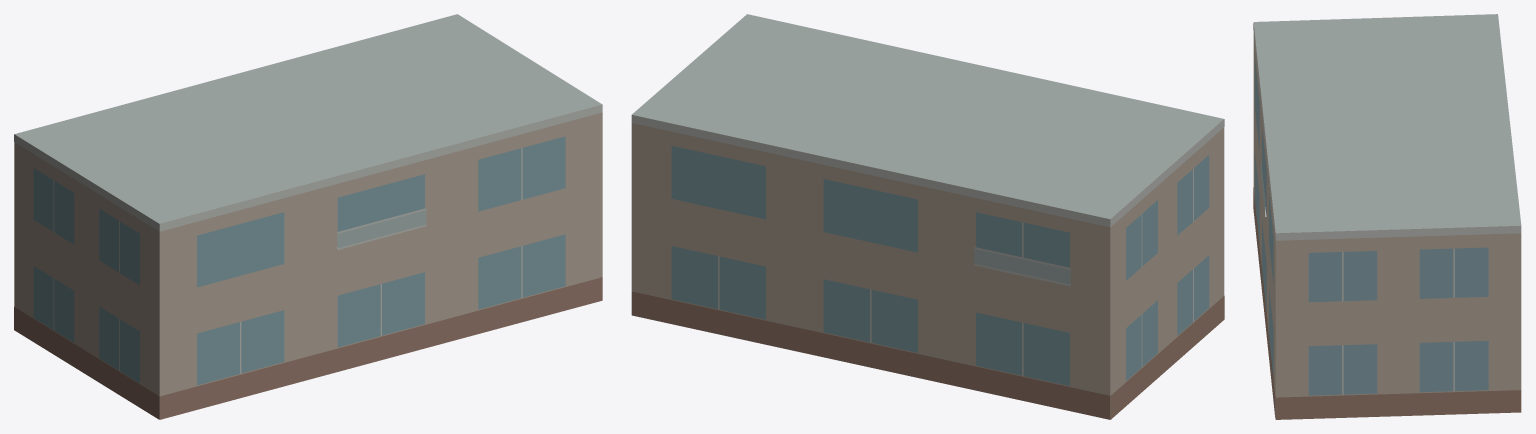
Rendered from survey-upis-32804756.glb.
3 renders of one model, left to right at view 1: azimuth 30°, elevation 25°; view 2: azimuth 150°, elevation 25°; view 3: azimuth 270°, elevation 25°, orthographic. The views are drawn at different scales.
Parts seen in each view (by area): view 1: survey-upis-32804756.tmp; view 2: survey-upis-32804756.tmp; view 3: survey-upis-32804756.tmp.
Part boxes in pixels (x1,y1,x2,y2): survey-upis-32804756.tmp: [14, 14, 602, 419]; survey-upis-32804756.tmp: [631, 14, 1224, 419]; survey-upis-32804756.tmp: [1253, 14, 1521, 419].
Size of the model in its own units: 15.38 by 6.1 by 7.95.
